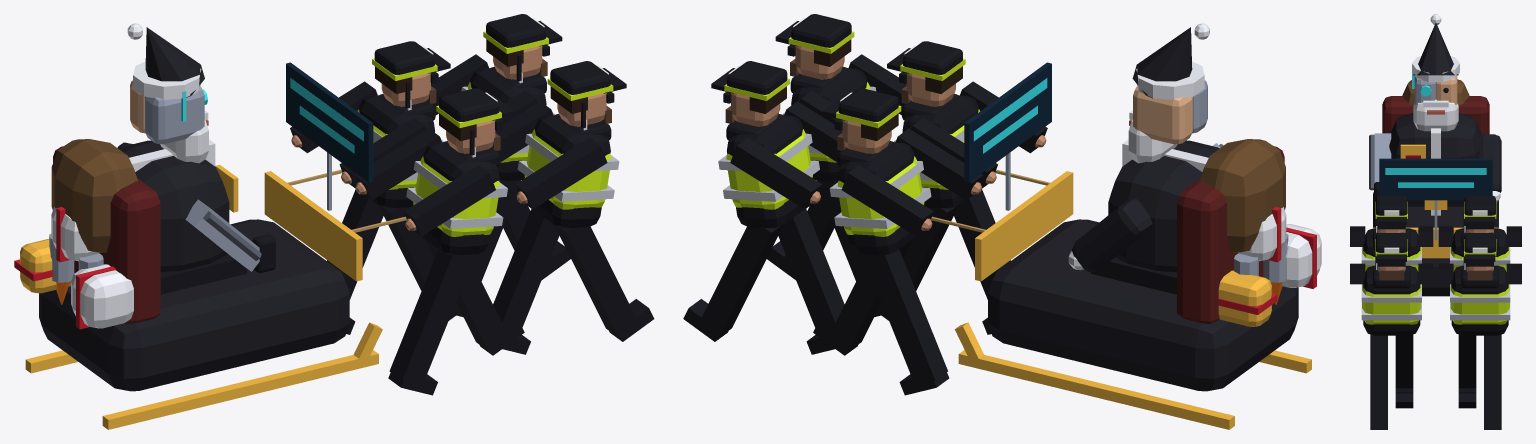
Rendered from marco_ceklair.glb.
3 views of the same model, side by side, from view 1: azimuth 30°, elevation 25°; view 2: azimuth 150°, elevation 25°; view 3: azimuth 270°, elevation 25° (orthographic). The views are drawn at different scales.
Visible parts, largest first — view 1: p_rbox.1417, p_rbox.1419, p_rbox.1425, p_rbox.1418, p_box.4816, p_box.4794, p_box.4795, p_box.4790, p_box.4852, p_box.4850, p_rbox.1426, p_box.4864 (+44 smaller); view 2: p_rbox.1417, p_rbox.1418, p_rbox.1419, p_rbox.1425, p_box.4835, p_box.4794, p_box.4795, p_box.4792, p_box.4867, p_box.4869, p_rbox.1420, p_box.4848 (+41 smaller); view 3: p_box.4795, p_rbox.1419, p_rbox.1417, p_rbox.1418, p_box.4850, p_box.4869, p_rbox.1439, p_rbox.1444, p_rbox.1440, p_rbox.1445, p_cone.371, p_rbox.1424 (+51 smaller).
Boxes of the visible parts, x1,y1,x2,y2 form: p_rbox.1417: [39, 219, 349, 391]; p_rbox.1419: [118, 140, 229, 271]; p_rbox.1425: [51, 139, 137, 252]; p_rbox.1418: [53, 146, 160, 324]; p_box.4816: [389, 249, 474, 385]; p_box.4794: [264, 171, 362, 281]; p_box.4795: [286, 62, 373, 182]; p_box.4790: [102, 350, 378, 429]; p_box.4852: [493, 209, 559, 344]; p_box.4850: [554, 225, 638, 337]; p_rbox.1426: [71, 264, 133, 328]; p_box.4864: [515, 138, 607, 209]; p_rbox.1417: [988, 219, 1298, 391]; p_rbox.1418: [1177, 146, 1284, 324]; p_rbox.1419: [1108, 140, 1219, 272]; p_rbox.1425: [1199, 139, 1285, 252]; p_box.4835: [863, 249, 947, 385]; p_box.4794: [975, 171, 1073, 281]; p_box.4795: [964, 62, 1051, 182]; p_box.4792: [958, 350, 1234, 429]; p_box.4867: [778, 209, 844, 344]; p_box.4869: [699, 225, 783, 337]; p_rbox.1420: [1072, 199, 1152, 272]; p_box.4848: [841, 165, 933, 236]; p_box.4795: [1379, 158, 1492, 200]; p_rbox.1419: [1389, 113, 1481, 158]; p_rbox.1417: [1373, 192, 1498, 296]; p_rbox.1418: [1382, 96, 1489, 134]; p_box.4850: [1370, 334, 1387, 419]; p_box.4869: [1484, 334, 1501, 419]; p_rbox.1439: [1363, 265, 1420, 335]; p_rbox.1444: [1451, 265, 1508, 335]; p_rbox.1440: [1362, 284, 1421, 324]; p_rbox.1445: [1450, 284, 1509, 324]; p_cone.371: [1413, 23, 1458, 75]; p_rbox.1424: [1413, 99, 1458, 131].
Size of the model in its own units: 3.52 by 2.39 by 1.36.
